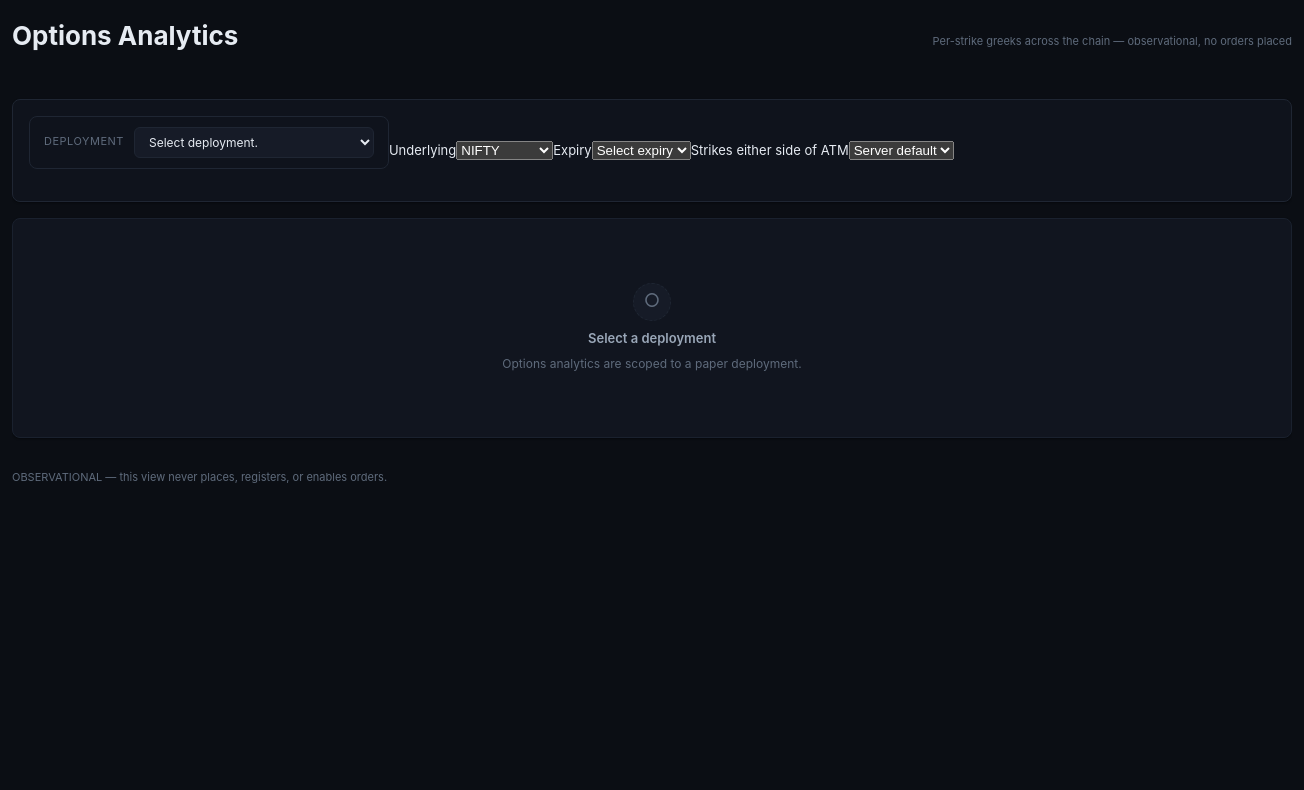
Scenario: PaperOptionsAnalytics — honest unknowns › renders an uncomputed greeks cell as a dash, not 0.00
Select "dep-1 — NSE:SBIN · 1d [active]" in the dropdown named "Select deployment" at (254, 142), box [134,126,374,158]
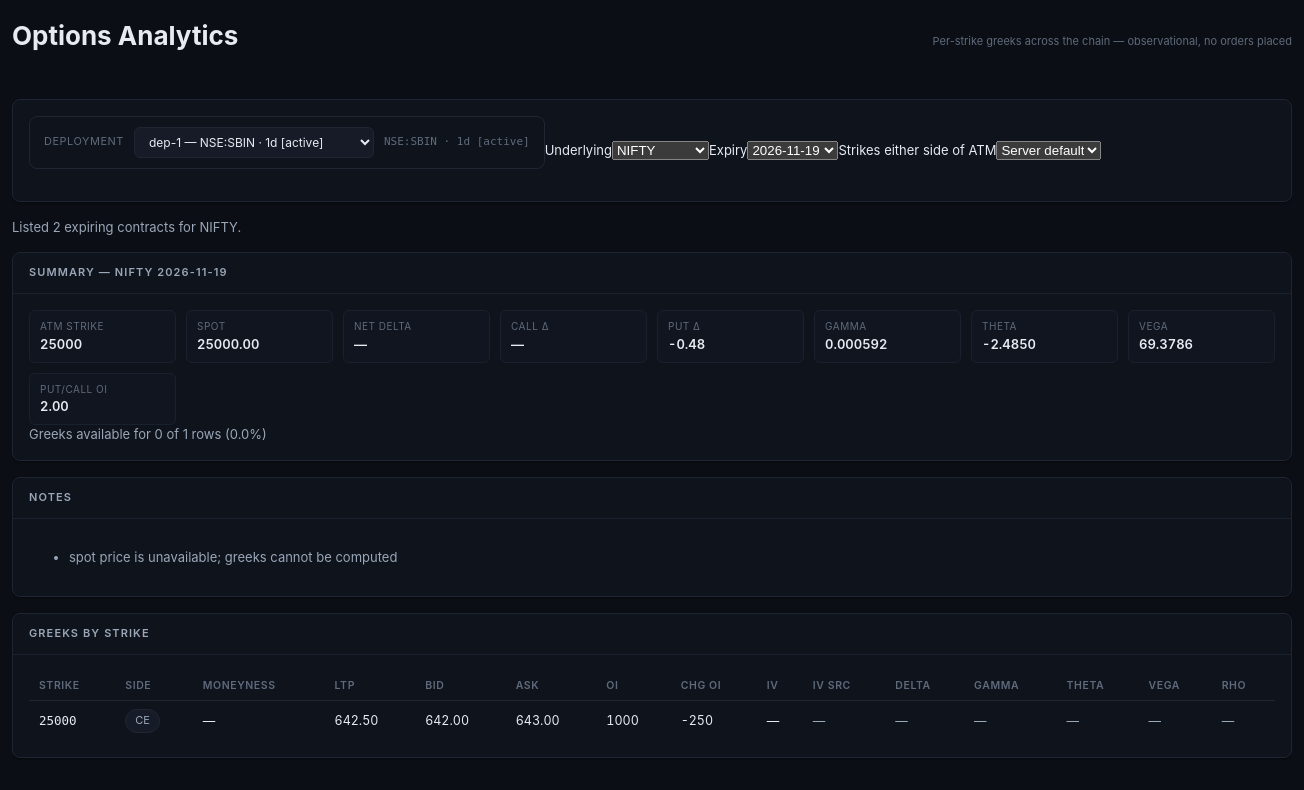
Expected: the text "Greeks by strike" is shown, [29,626,150,642]
Expected: the number of elements titled "not computable from available data" is 5, [895,713,908,728]; [974,713,987,728]; [1066,713,1079,728]; [1148,713,1161,728]; [1222,713,1234,728]
